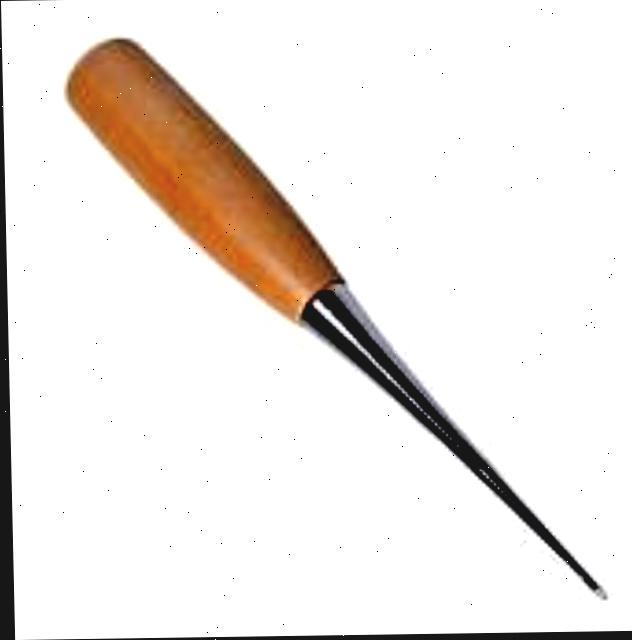ice pick: (70, 33, 603, 592)
